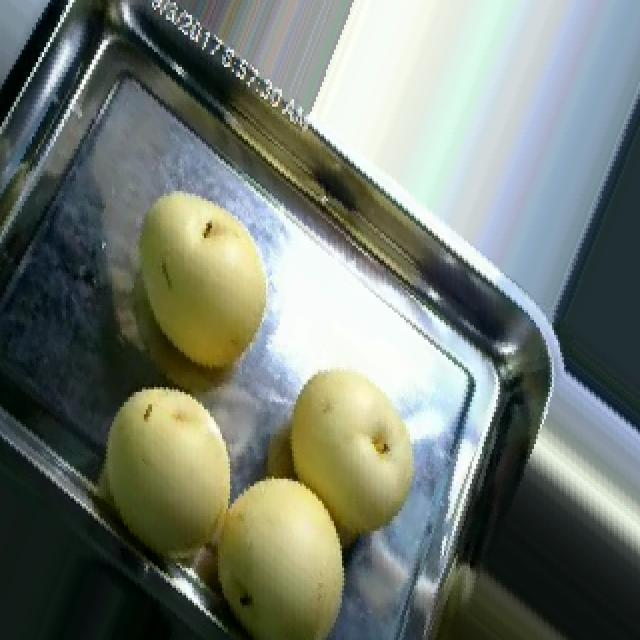Fruit: (66, 365, 260, 630), (104, 162, 298, 390), (260, 354, 436, 570), (182, 459, 374, 640)
